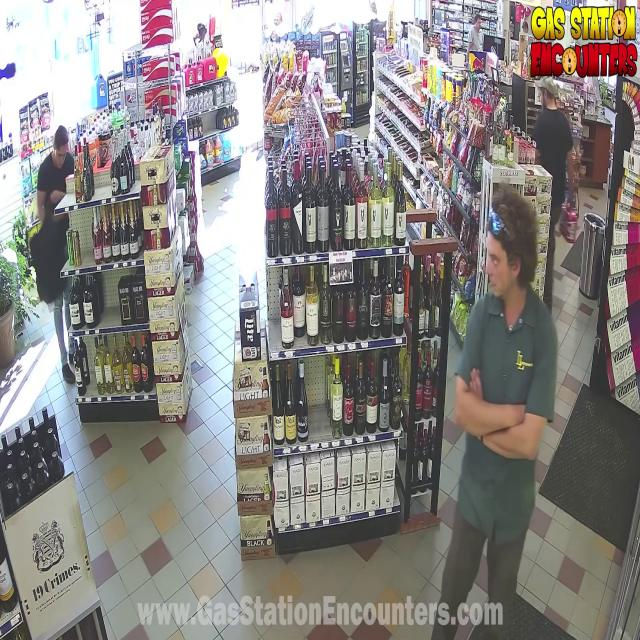Product: (564, 202, 582, 242)
normal: (444, 174, 561, 637), (3, 96, 85, 412), (482, 250, 489, 255), (429, 181, 438, 181), (484, 173, 484, 175)
shoplifting: (536, 69, 600, 305)
